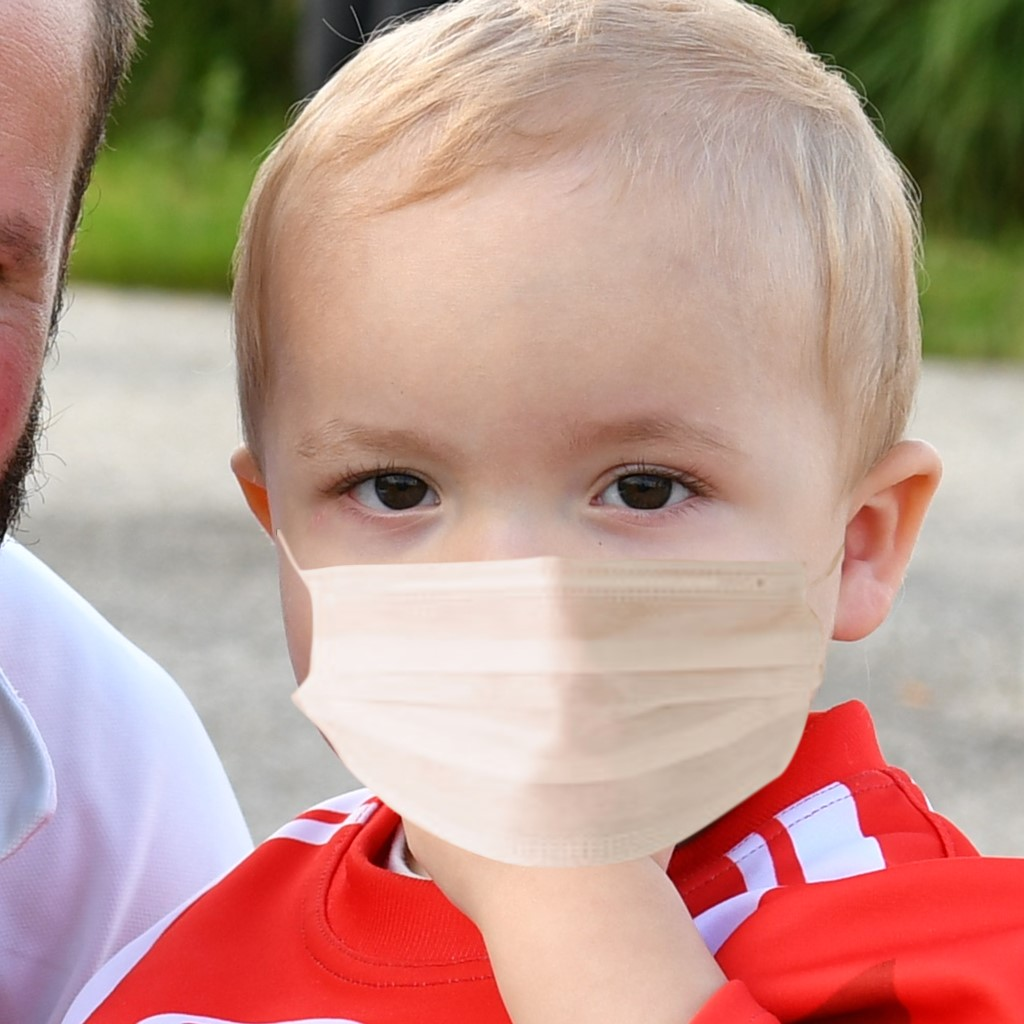con_mascara: (224, 14, 882, 877)
